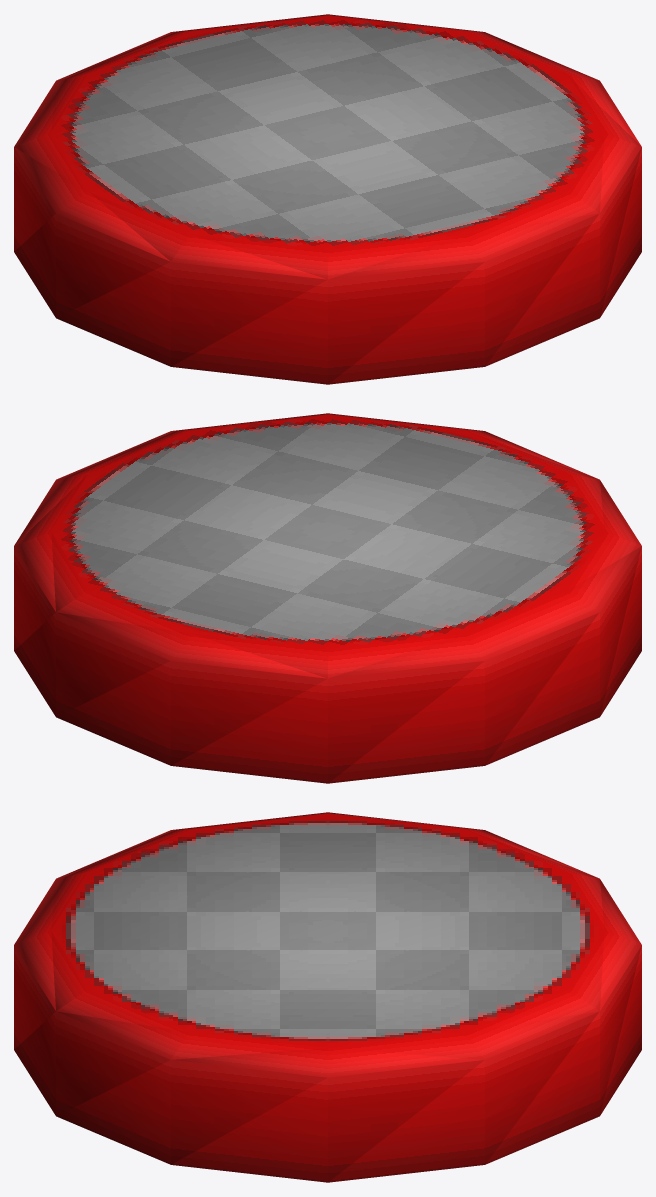
File: amiibo_base.dae
3 views of the same model, one above another, from view 1: azimuth 30°, elevation 25°; view 2: azimuth 150°, elevation 25°; view 3: azimuth 270°, elevation 25° (orthographic).
Visible parts, largest first — view 1: base.001; view 2: base.001; view 3: base.001.
Boxes of the visible parts, box(x1,y1,x2,y2) form: base.001: box(14, 14, 641, 384); base.001: box(14, 413, 641, 783); base.001: box(14, 812, 641, 1182).
Size of the model in its own units: 9.71 by 9.71 by 2.03.
Materials: 2 (2 with a texture image).
